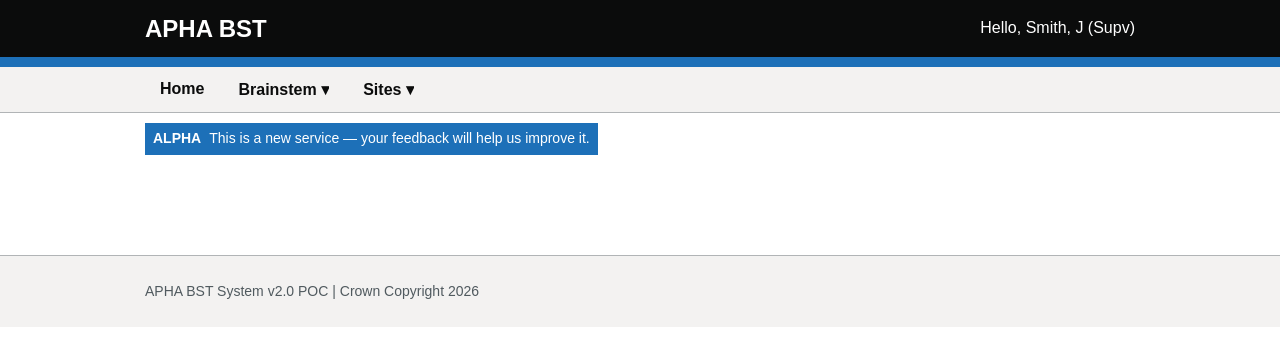
Test: Layout › clicking "Sites" reveals "View All Sites", "Add New Site", and "Add Person"
This screenshot has width=1280, height=344.
Click the button "Sites ▾". click: click(389, 90)
box: [348, 72, 429, 108]
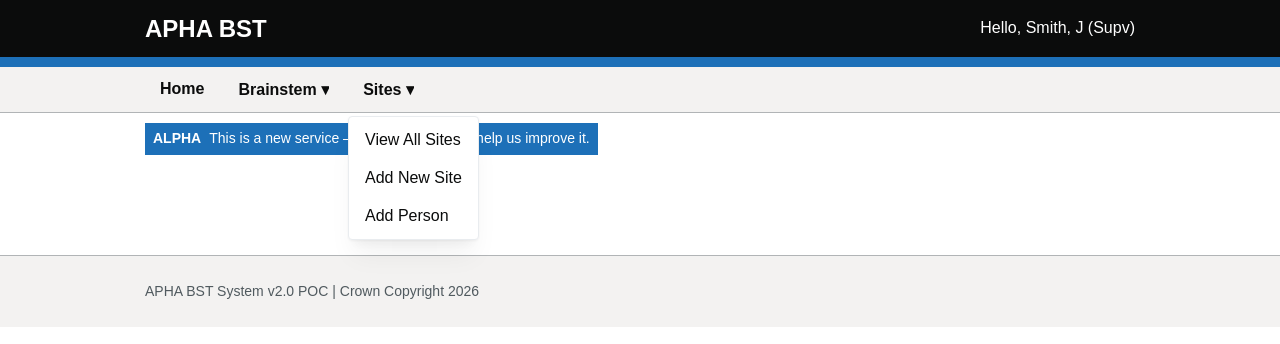
expect the text "View All Sites" is shown: met, box [365, 127, 462, 152]
expect the text "Add New Site" is shown: met, box [365, 165, 462, 190]
expect the text "Add Person" is shown: met, box [365, 204, 462, 228]
